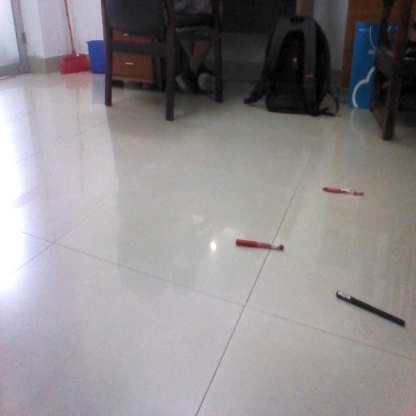pen: (336, 290, 405, 326), (234, 239, 286, 252), (321, 183, 365, 198)
